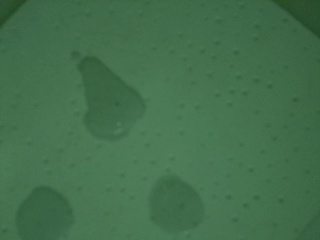Water_detected: (82, 71, 137, 132), (150, 183, 191, 222), (37, 194, 67, 235)
